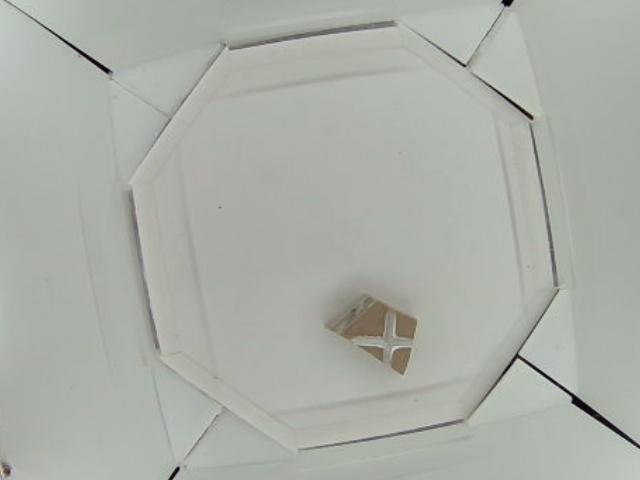China: (327, 294, 419, 374)
